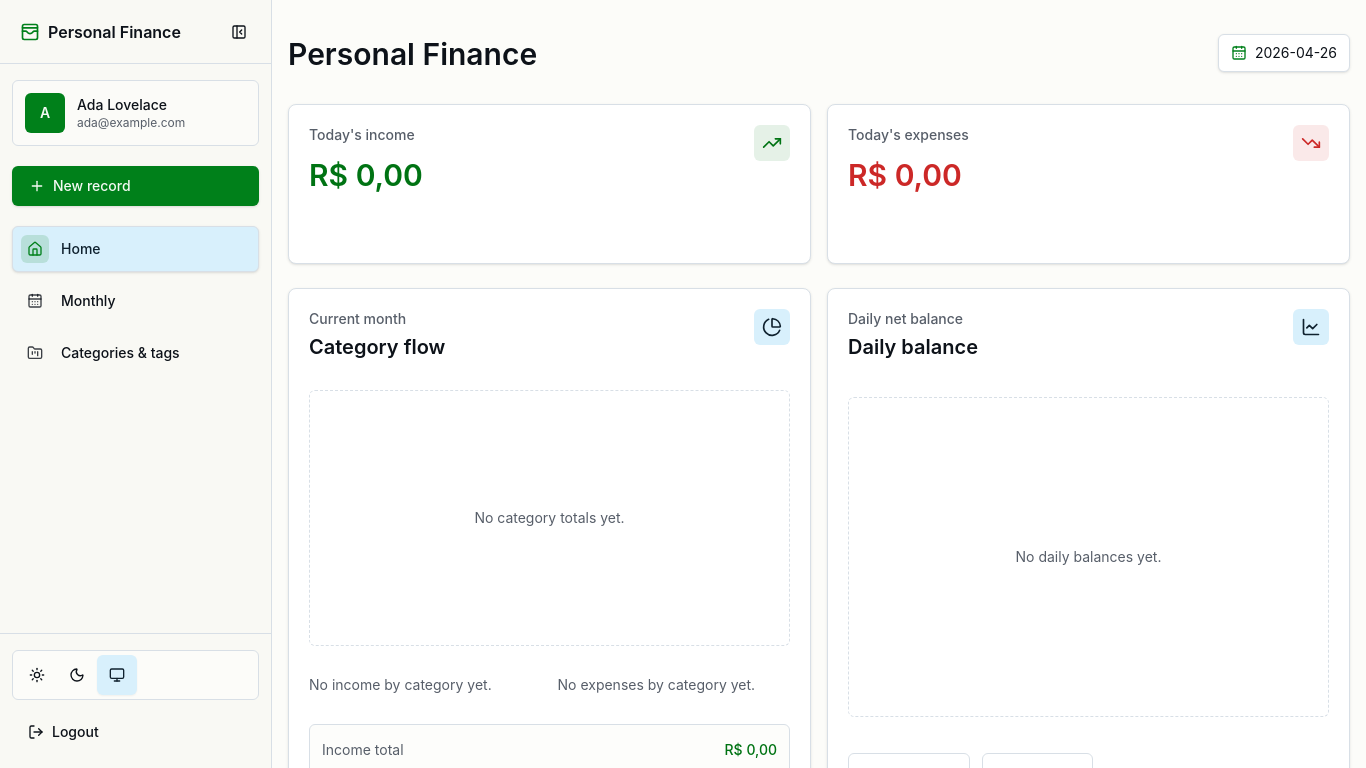
renders authenticated sidebar navigation and supports collapse plus route changes
Check: the heading "Personal Finance" is shown, box [288, 36, 537, 72]
Check: the text "Ada Lovelace" is shown, box [77, 96, 167, 113]
Click the button "New record" at (136, 186), box [12, 166, 259, 206]
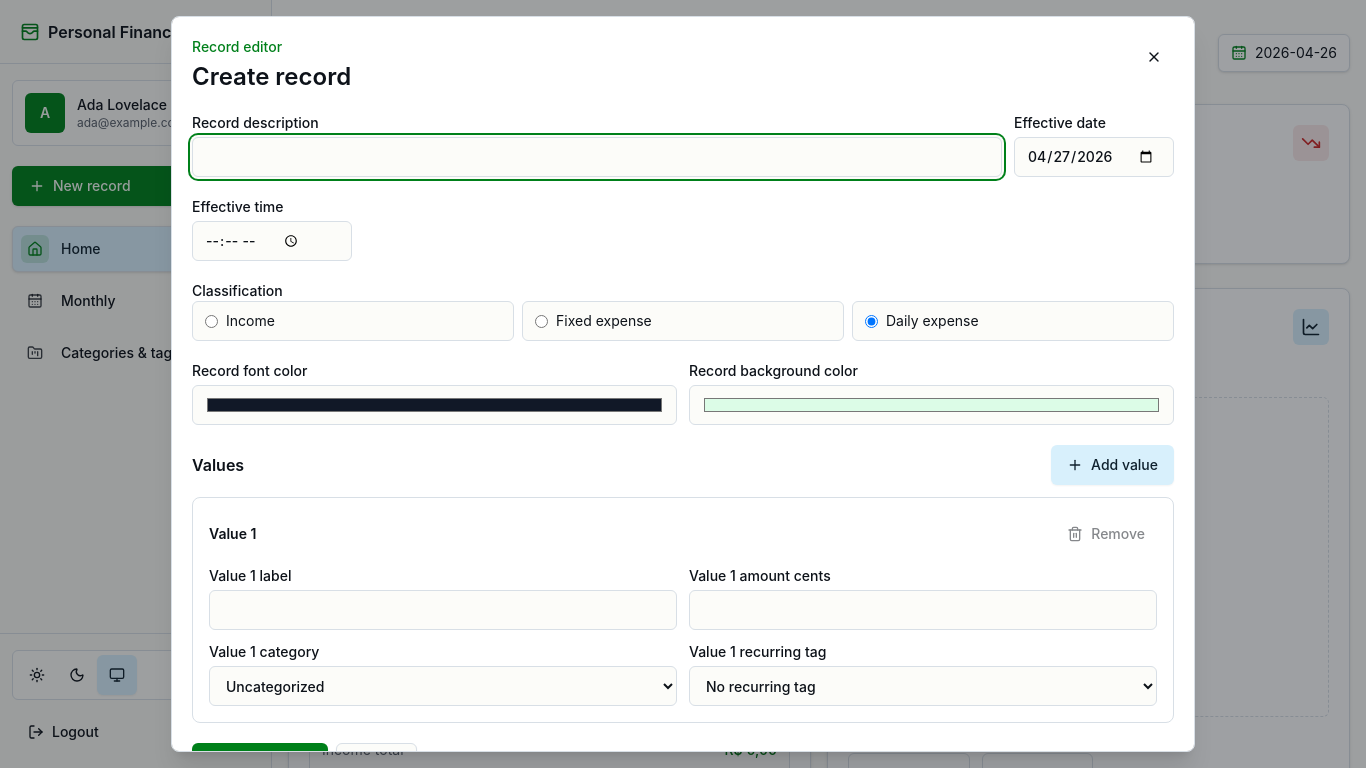
Check: the dialog "Create record" is shown
Click the button named "Close record editor" at (1154, 57), box [1134, 37, 1174, 77]
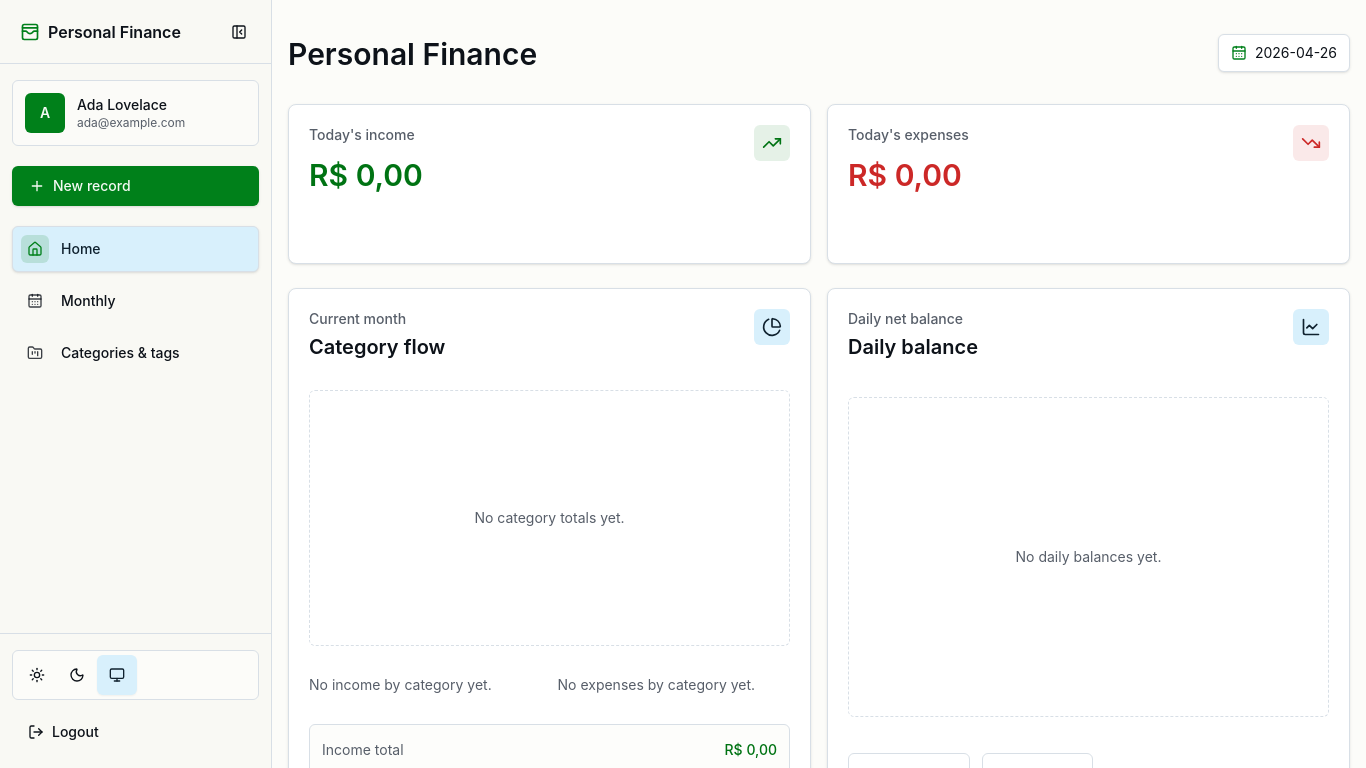
Click the button named "Collapse sidebar" at (239, 32), box [219, 12, 259, 52]
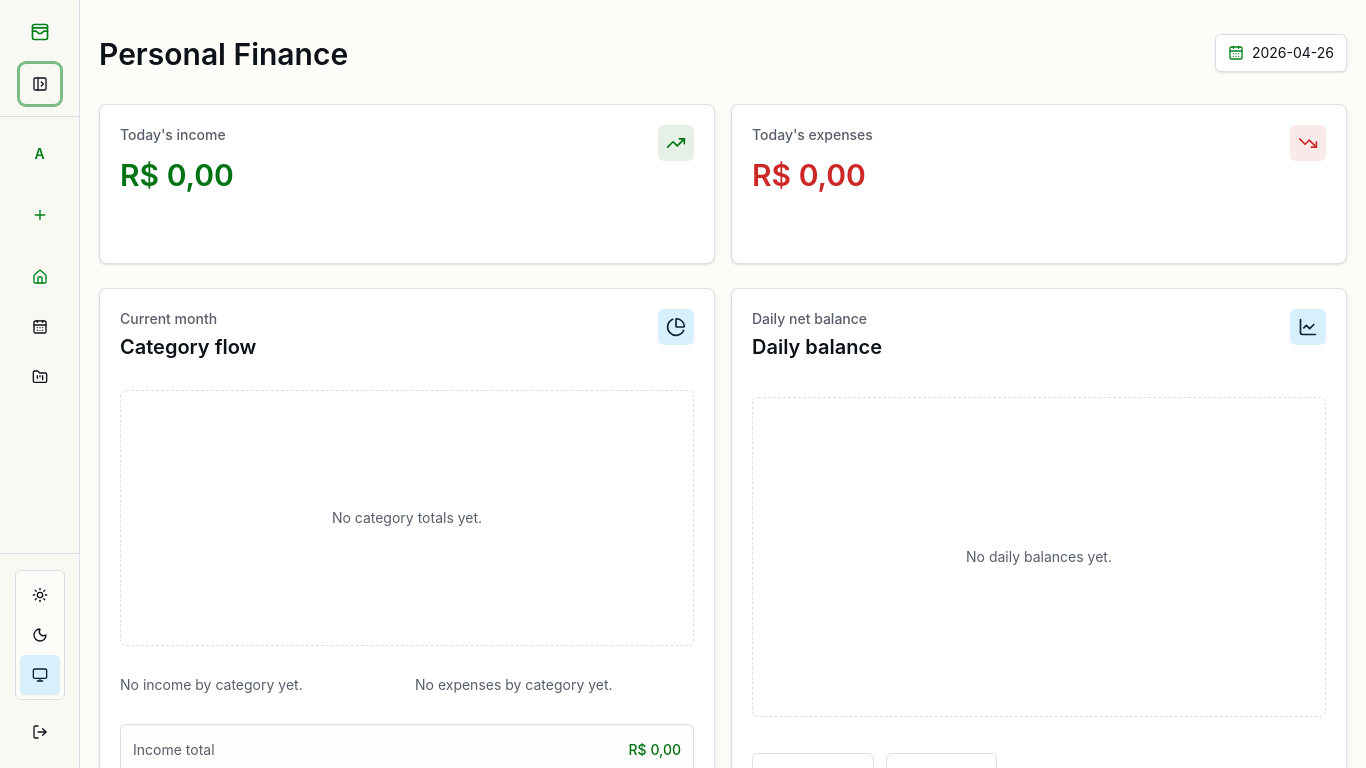
Check: the button named "Expand sidebar" is collapsed, box [20, 64, 60, 104]
Click the link named "Monthly" at (40, 327), box [20, 305, 60, 349]
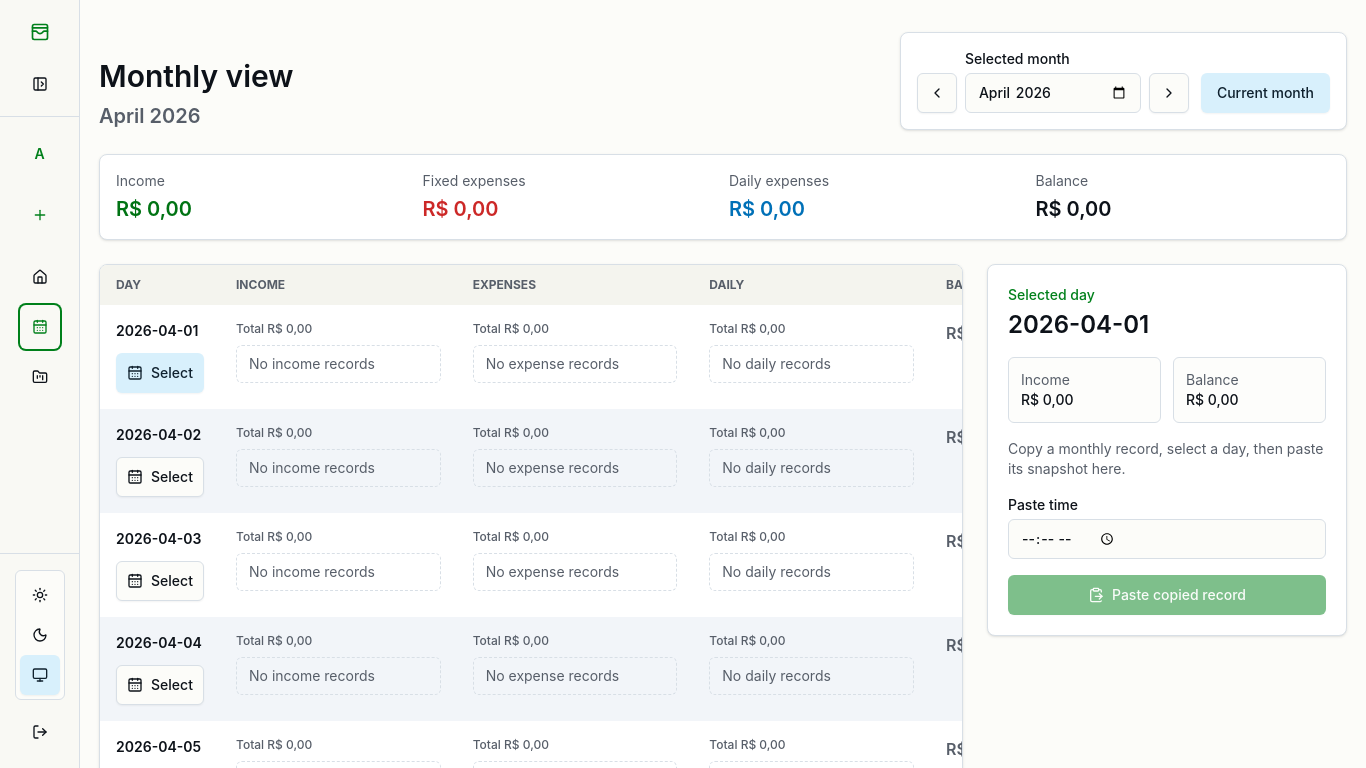
Check: the heading "Monthly view" is shown, box [99, 58, 294, 94]
